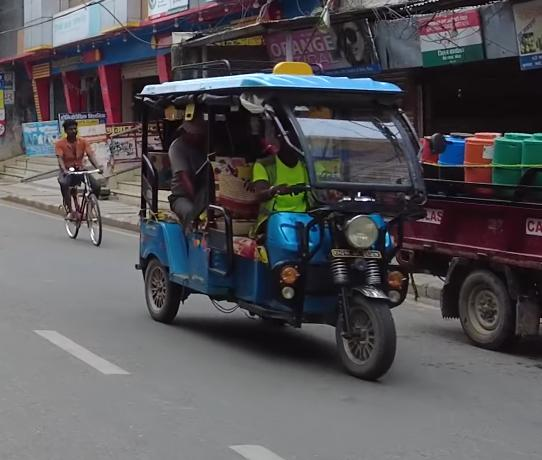e-rickshaw: (115, 55, 416, 376)
